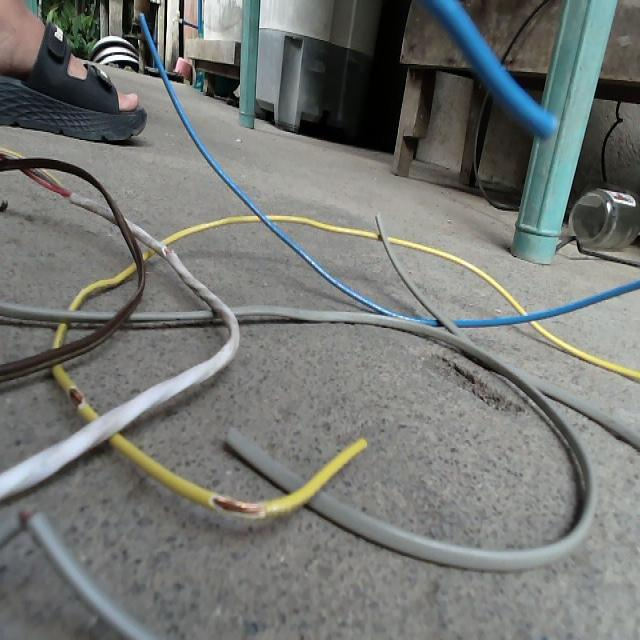-: (209, 492, 265, 519), (68, 384, 86, 407), (161, 243, 174, 256)
